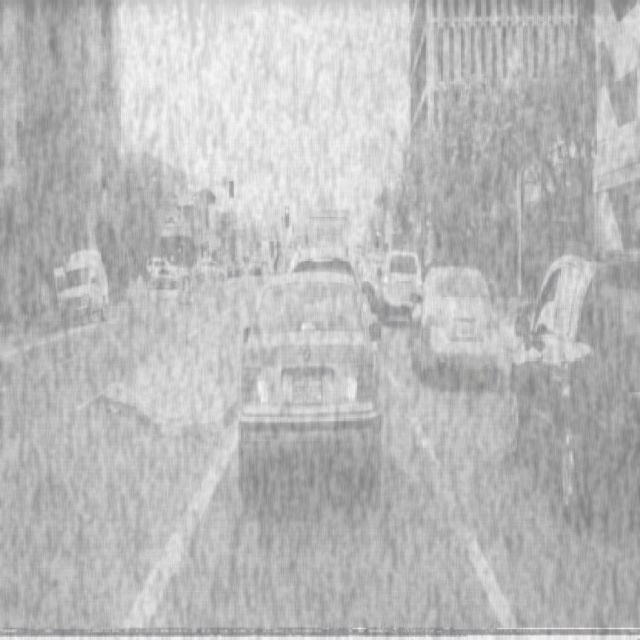noLeftTurn: (194, 189, 207, 245)
